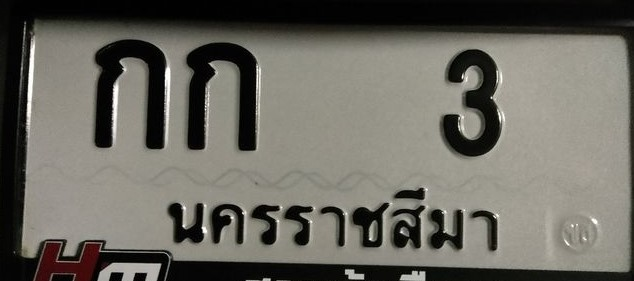txt01: (88, 37, 171, 152), (179, 39, 262, 154)
